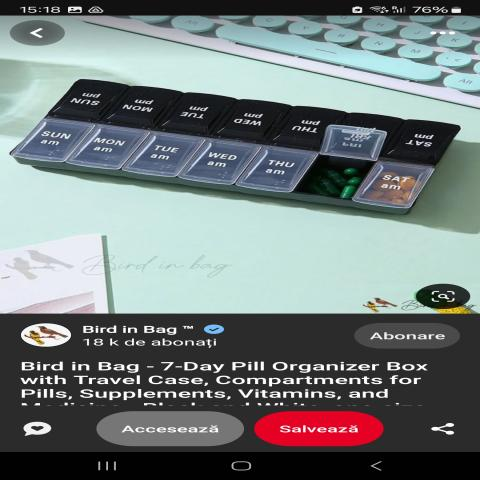PillBox: (5, 67, 469, 229)
